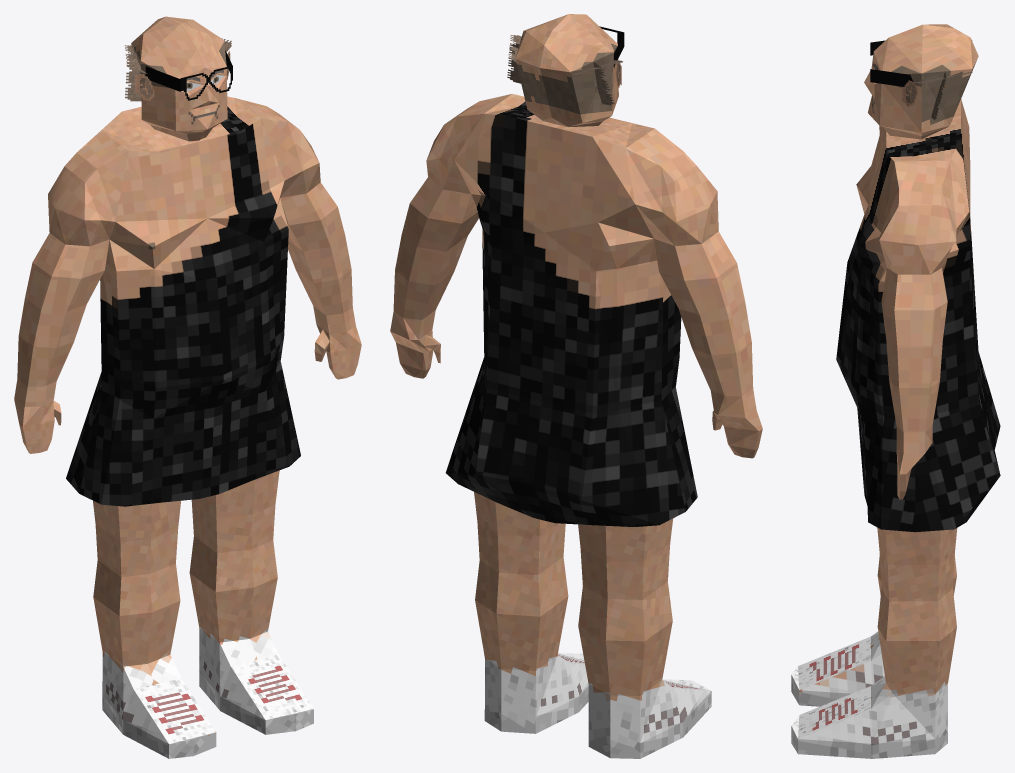
Rendered from dannytrashman.FBX.
3 views of the same model, side by side, from view 1: azimuth 30°, elevation 25°; view 2: azimuth 150°, elevation 25°; view 3: azimuth 270°, elevation 25° (orthographic). The views are drawn at different scales.
Parts seen in each view (by area): view 1: Box001, Plane006; view 2: Box001; view 3: Box001, Plane006.
Boxes of the visible parts, x1,y1,x2,y2 form: Box001: (14,16,361,758); Plane006: (145,50,232,100); Box001: (390,14,762,758); Box001: (791,24,1000,758); Plane006: (870,40,913,86).
Bounding box in the file's own units: 108 × 204 × 55.91.
